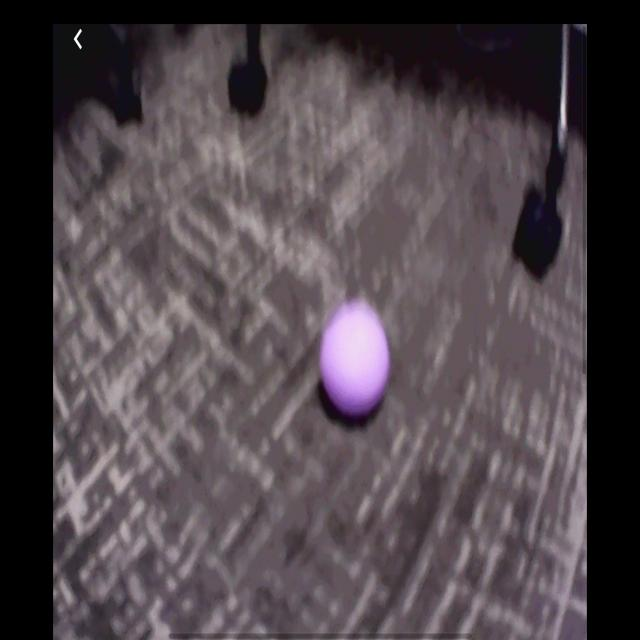ball: (323, 305, 389, 414)
